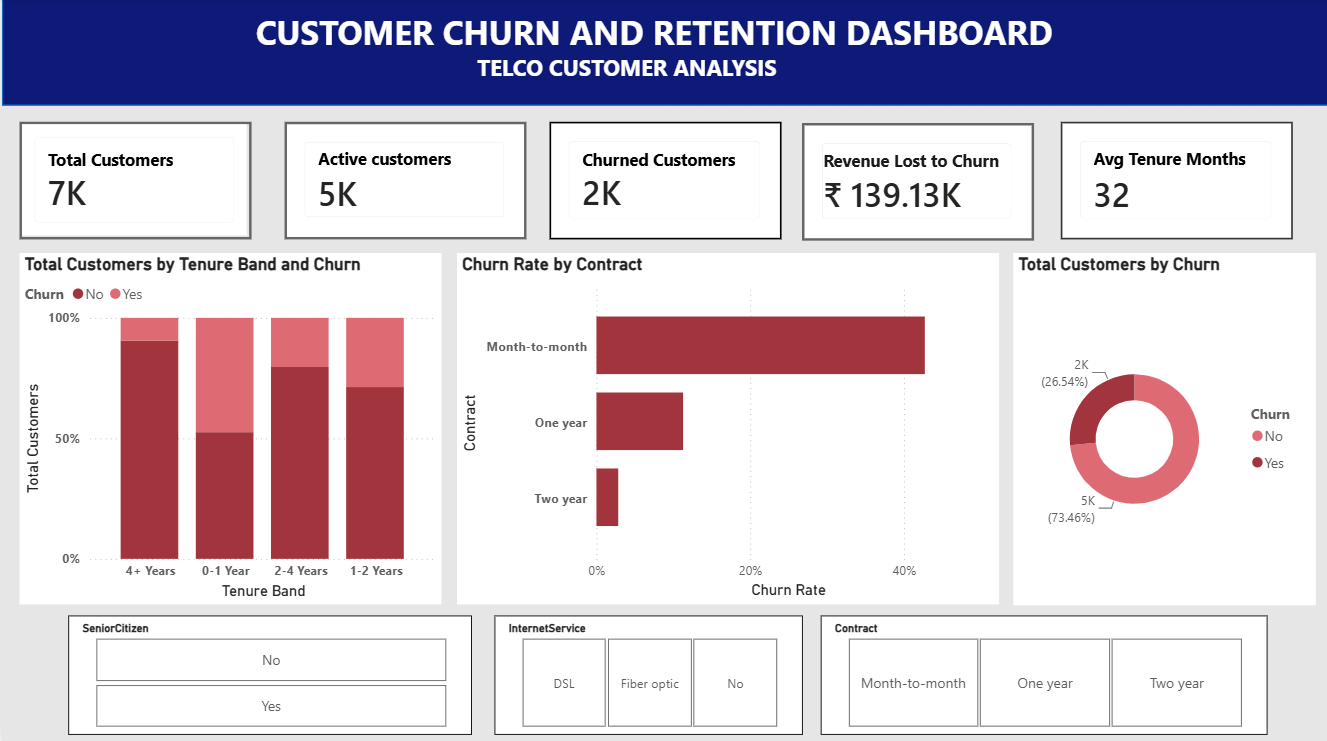

This screenshot's page, from the dashboard's own definition file:
{"tool":"powerbi","page":{"name":"CUSTOMER DASHBOARD ","canvas":[1280,720],"ordinal":0},"visuals":[{"type":"cardVisual","title":"TOTAL CUSTOMERS","fields":{"Data":["_Measures.Total Customers"]},"box":[16.5,119.4,223.7,113.9],"z":0},{"type":"cardVisual","fields":{"Data":["_Measures.Churned Customers"]},"box":[528.3,119.4,223.7,113.9],"z":2000},{"type":"cardVisual","fields":{"Data":["_Measures.Revenue Lost to Churn"]},"box":[772.6,120.8,223.7,113.9],"z":3000},{"type":"cardVisual","fields":{"Data":["_Measures.Avg Tenure Months"]},"box":[1022.3,119.4,223.7,113.9],"z":4000},{"type":"shape","box":[0,0,1280,103.8],"z":5000},{"type":"textbox","title":"CUSTOMER CHURN AND RETENTION DASHBOARD","box":[240.1,10.9,894,41],"z":6000},{"type":"textbox","title":"TELCO CUSTOMER ANALYSIS ","box":[453.6,51.9,498.3,38.6],"z":7000},{"type":"donutChart","fields":{"Category":["WA_Fn-UseC_-Telco-Customer-Churn (2).Churn"],"Y":["_Measures.Total Customers"]},"box":[975.6,245.6,292.3,340.3],"z":8000},{"type":"clusteredBarChart","fields":{"Category":["WA_Fn-UseC_-Telco-Customer-Churn (2).Contract"],"Y":["_Measures.Churn Rate"]},"box":[439.1,245.6,522.8,338.9],"z":9000},{"type":"hundredPercentStackedColumnChart","fields":{"Category":["WA_Fn-UseC_-Telco-Customer-Churn (2).Tenure Band"],"Y":["_Measures.Total Customers"],"Series":["WA_Fn-UseC_-Telco-Customer-Churn (2).Churn"]},"box":[16.5,245.6,407.5,338.9],"z":10000},{"type":"slicer","fields":{"Values":["WA_Fn-UseC_-Telco-Customer-Churn (2).Contract"]},"box":[790.4,595.5,430.9,115.3],"z":11000},{"type":"slicer","fields":{"Values":["WA_Fn-UseC_-Telco-Customer-Churn (2).InternetService"]},"box":[474.8,595.5,297.8,115.3],"z":12000},{"type":"slicer","fields":{"Values":["WA_Fn-UseC_-Telco-Customer-Churn (2).SeniorCitizen"]},"box":[64.5,595.5,389.7,115.3],"z":13000},{"type":"cardVisual","fields":{"Data":["_Measures.Retained Customers"]},"box":[273.1,119.4,233.3,113.9],"z":13001}]}

Visuals, with their boxes in screenshot pixels (x1, y1, x2, y2), scaled from the page's 1280x720 canvas onto the 1327x741 screenshot:
"TOTAL CUSTOMERS" cardVisual: bbox=[17, 123, 249, 240]
cardVisual - _Measures.Churned Customers: bbox=[548, 123, 780, 240]
cardVisual - _Measures.Revenue Lost to Churn: bbox=[801, 124, 1033, 242]
cardVisual - _Measures.Avg Tenure Months: bbox=[1060, 123, 1292, 240]
shape: bbox=[0, 0, 1326, 107]
"CUSTOMER CHURN AND RETENTION DASHBOARD" textbox: bbox=[249, 11, 1176, 53]
"TELCO CUSTOMER ANALYSIS " textbox: bbox=[470, 53, 987, 93]
donutChart - WA_Fn-UseC_-Telco-Customer-Churn (2).Churn x _Measures.Total Customers: bbox=[1011, 253, 1314, 603]
clusteredBarChart - WA_Fn-UseC_-Telco-Customer-Churn (2).Contract x _Measures.Churn Rate: bbox=[455, 253, 997, 602]
hundredPercentStackedColumnChart - WA_Fn-UseC_-Telco-Customer-Churn (2).Tenure Band x _Measures.Total Customers: bbox=[17, 253, 440, 602]
slicer - WA_Fn-UseC_-Telco-Customer-Churn (2).Contract: bbox=[819, 613, 1266, 732]
slicer - WA_Fn-UseC_-Telco-Customer-Churn (2).InternetService: bbox=[492, 613, 801, 732]
slicer - WA_Fn-UseC_-Telco-Customer-Churn (2).SeniorCitizen: bbox=[67, 613, 471, 732]
cardVisual - _Measures.Retained Customers: bbox=[283, 123, 525, 240]
